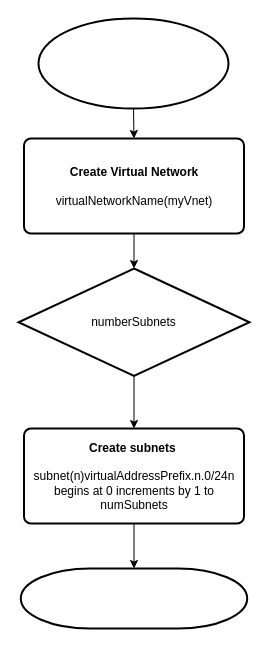
Image size: 267x646. Some labels were removed from this diagram. Each missing label, with the centre of its shape:
End: point (133, 598)
Start: point (133, 63)
